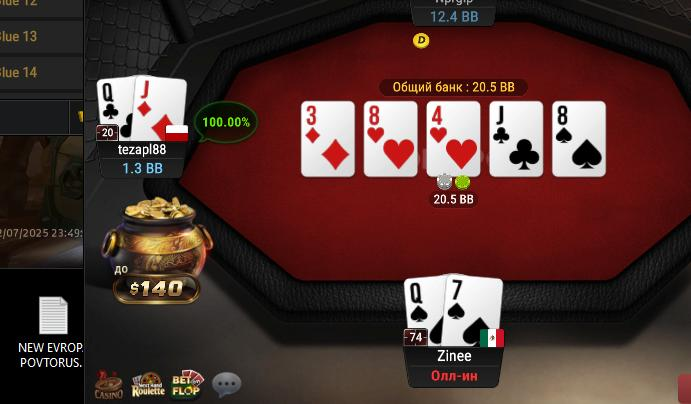3d: (302, 103, 353, 175)
4h: (427, 102, 480, 176)
7s: (445, 274, 502, 347)
8h: (364, 103, 416, 175)
8s: (553, 101, 606, 176)
Jc: (491, 102, 540, 174)
Jd: (134, 77, 187, 141)
Qc: (96, 78, 133, 141)
Qs: (404, 278, 444, 349)
